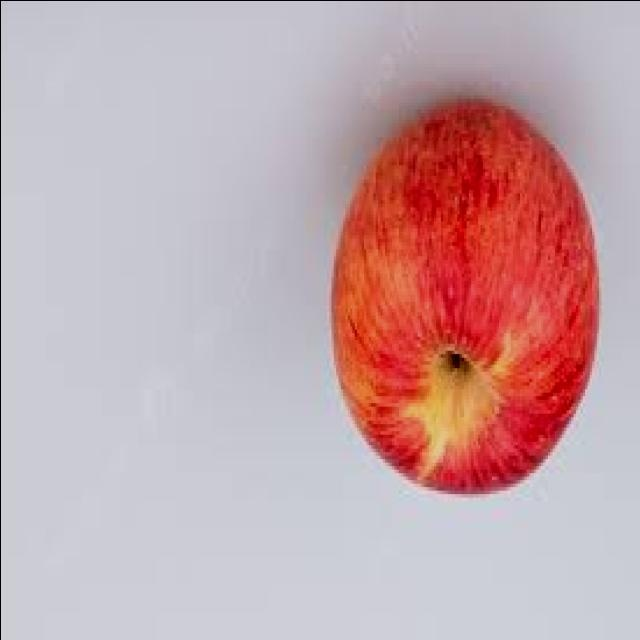agrume: (319, 70, 617, 509)
